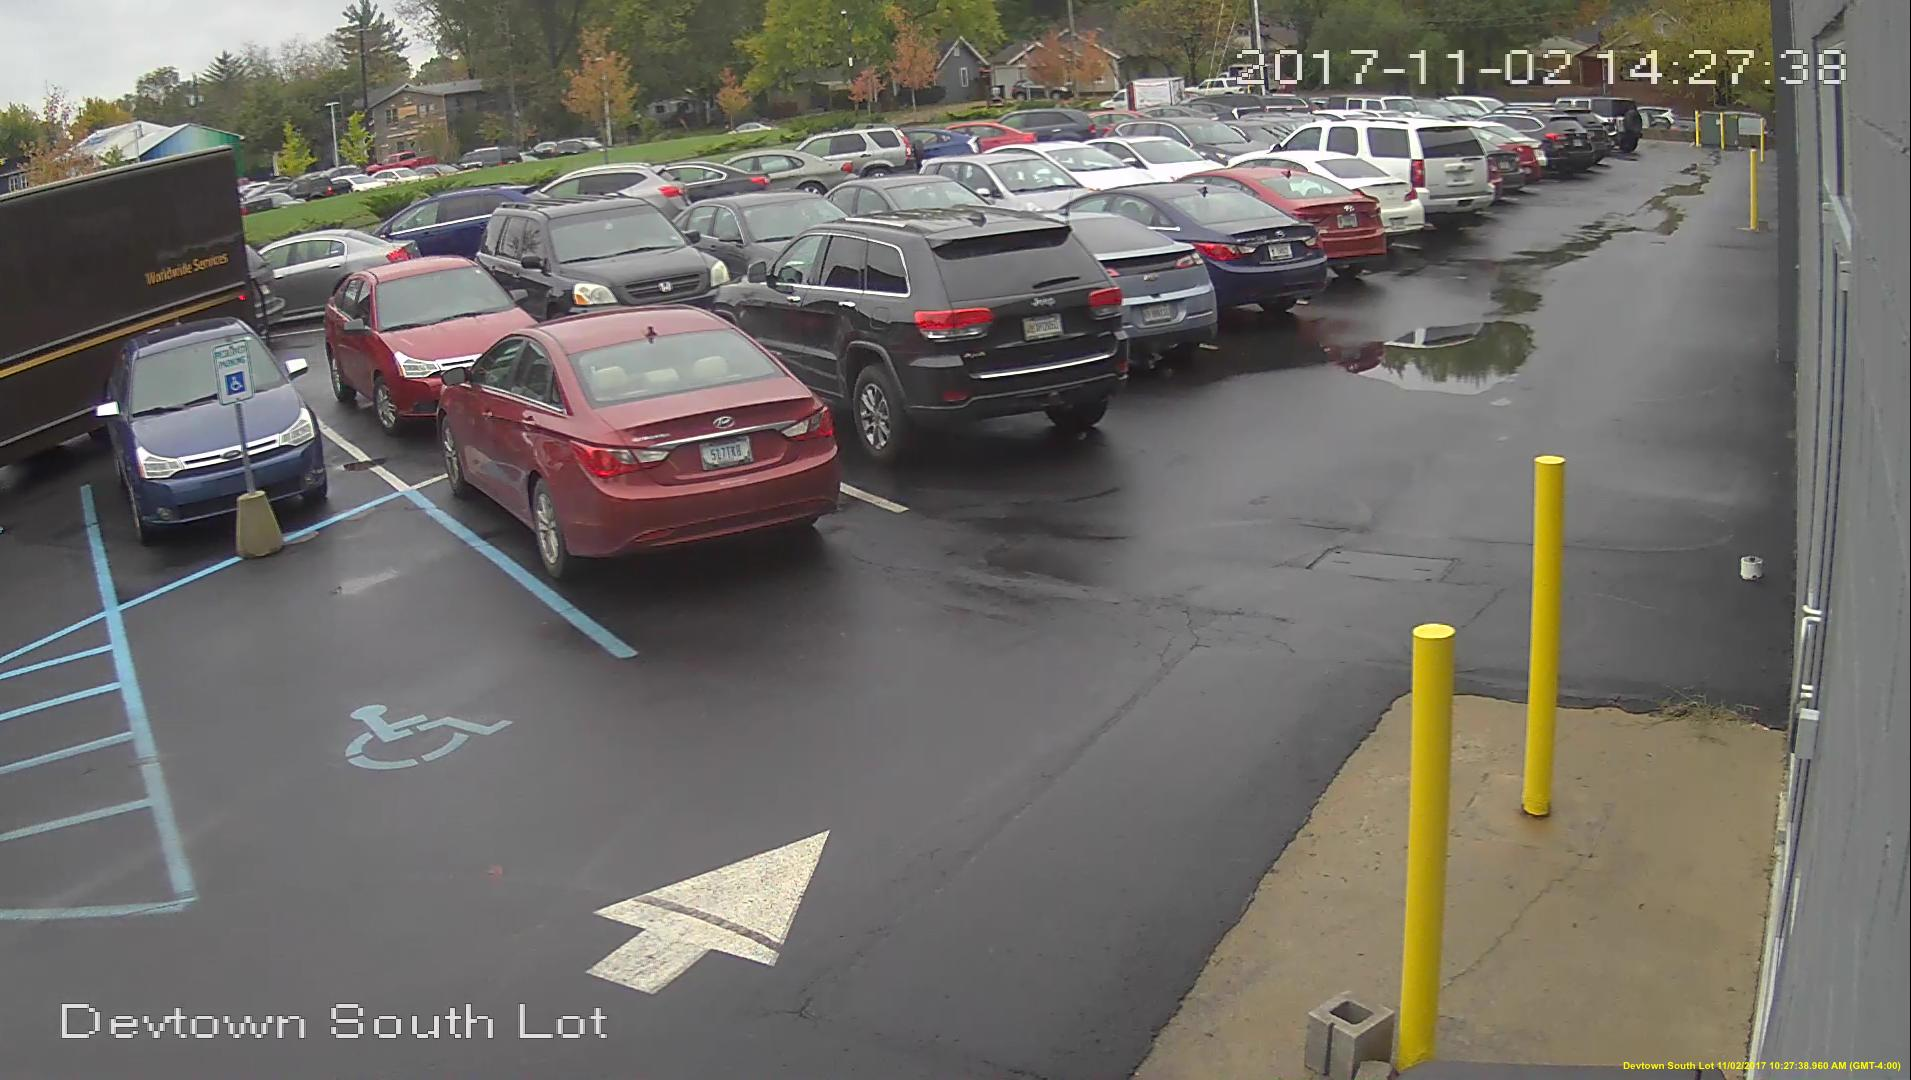ups_truck: (1, 150, 241, 440)
